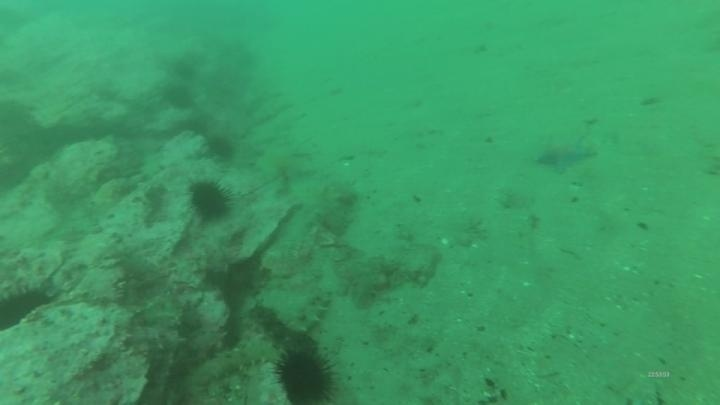echinus: (271, 344, 340, 404), (1, 283, 55, 334), (187, 177, 234, 224), (161, 82, 197, 113), (203, 132, 238, 163)
holothurian: (186, 337, 281, 388), (288, 289, 334, 336)
starfish: (533, 133, 597, 175)
